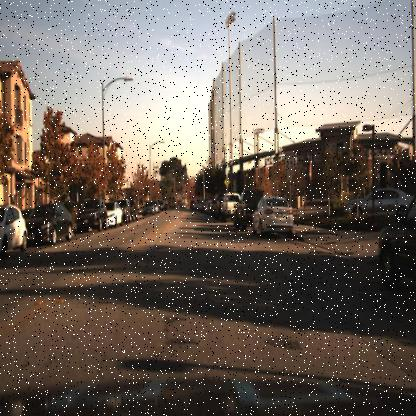car: (342, 181, 412, 224), (24, 200, 74, 248), (29, 199, 74, 249), (248, 196, 295, 236), (0, 202, 29, 255), (234, 186, 267, 232), (75, 194, 109, 234), (78, 198, 110, 230), (218, 191, 239, 222), (104, 200, 126, 227), (106, 201, 125, 226), (107, 199, 122, 228), (142, 197, 154, 218)
